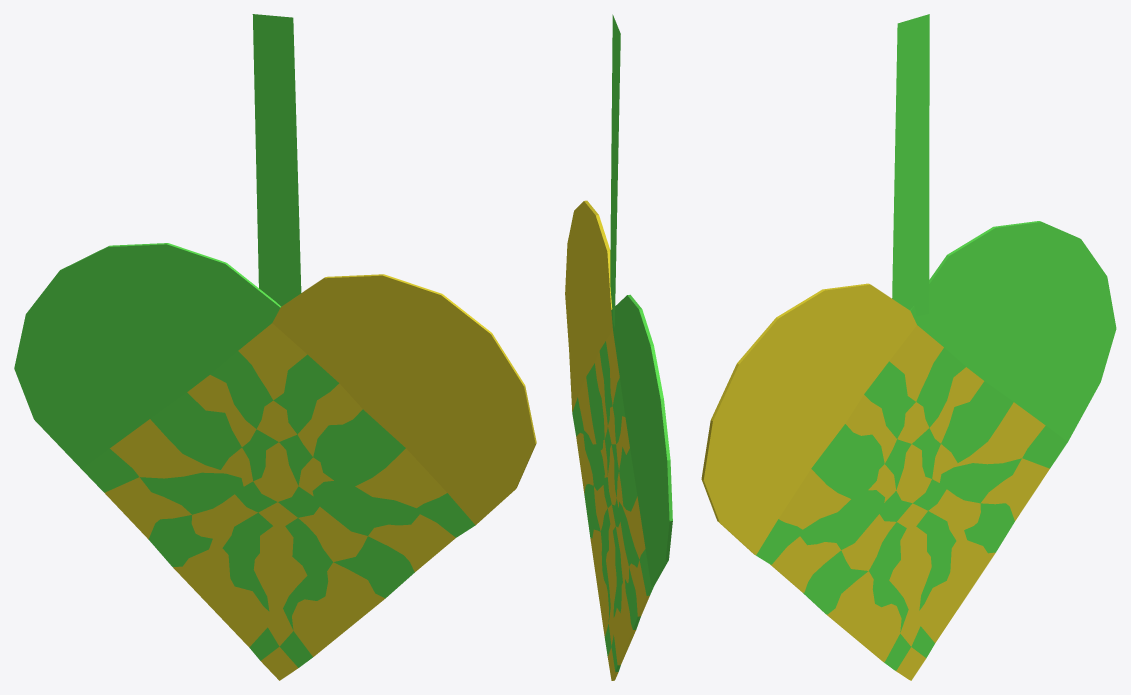
File: heart10.glb
3 views of the same model, side by side, from view 1: azimuth 30°, elevation 25°; view 2: azimuth 150°, elevation 25°; view 3: azimuth 270°, elevation 25° (orthographic).
Parts seen in each view (by area): view 1: heart10; view 2: heart10; view 3: heart10.
Part boxes in pixels (x1=…): heart10: x1=14, y1=14, x2=536, y2=680; heart10: x1=565, y1=14, x2=672, y2=680; heart10: x1=701, y1=14, x2=1116, y2=680.
Bounding box in the file's own units: 0.0902 × 0.1818 × 0.1036.
